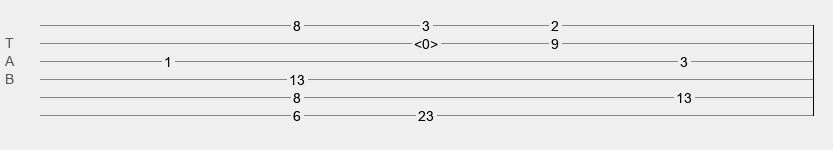1: (164, 54, 172, 64)
13: (289, 72, 305, 82), (676, 90, 692, 100)
2: (551, 18, 559, 28)
23: (418, 108, 434, 118)
3: (422, 18, 430, 28), (680, 54, 688, 64)
6: (293, 108, 301, 118)
8: (293, 18, 301, 28), (293, 90, 301, 100)
9: (551, 36, 559, 46)
harmonic: (414, 36, 438, 46)
